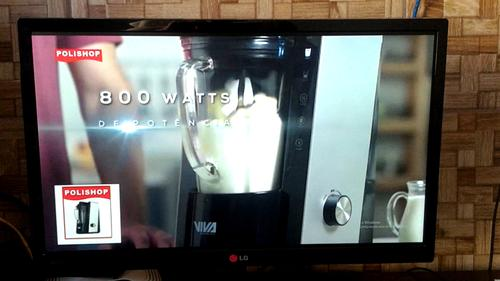Polishop #1: (53, 183, 122, 244)
